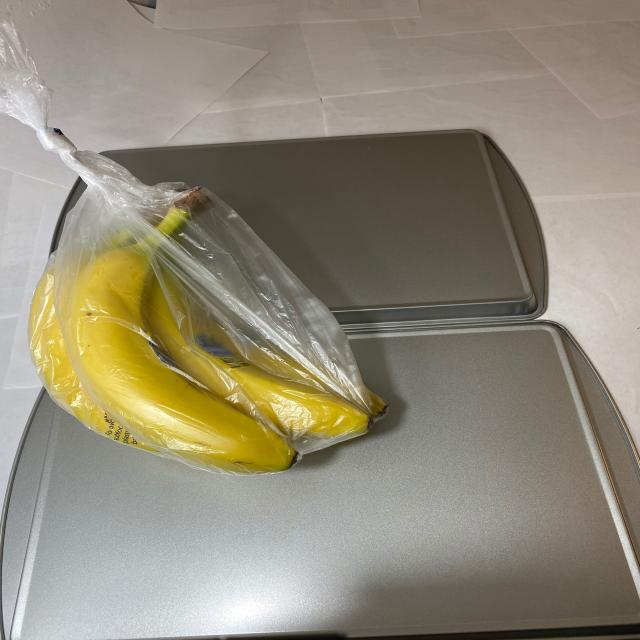banana: (30, 173, 399, 477)
